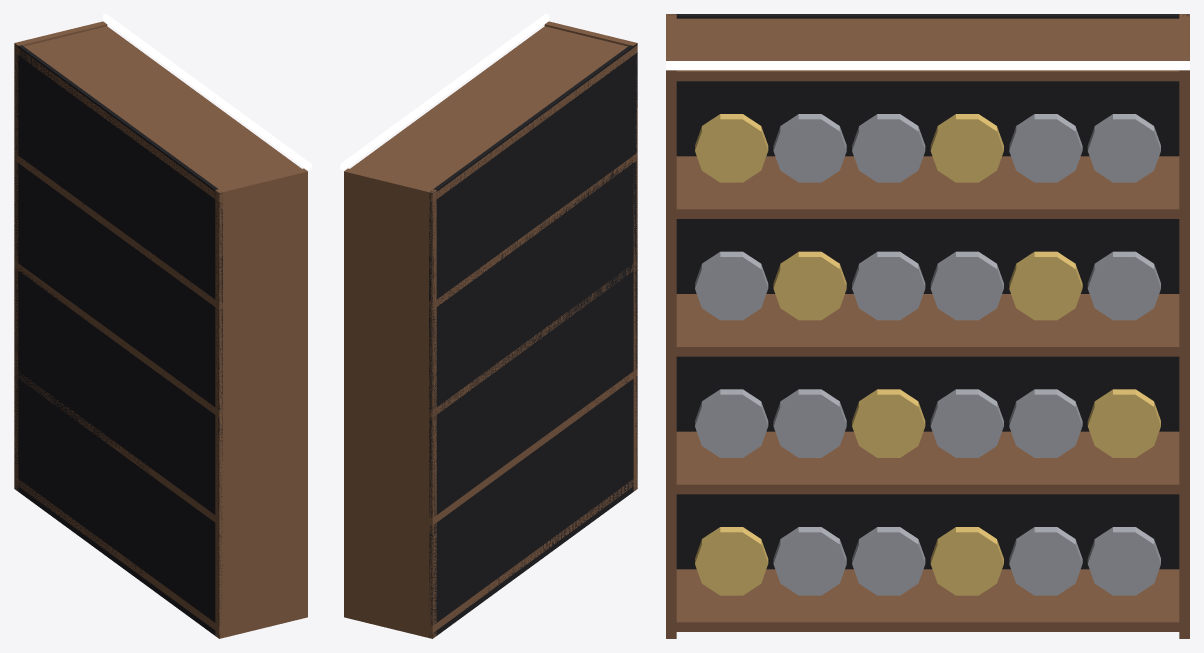
Rendered from SM_ReelShelf.fbx.
3 views of the same model, side by side, from view 1: azimuth 30°, elevation 25°; view 2: azimuth 150°, elevation 25°; view 3: azimuth 270°, elevation 25° (orthographic). The views are drawn at different scales.
Parts seen in each view (by area): view 1: SM_ReelShelf; view 2: SM_ReelShelf; view 3: SM_ReelShelf.
Part boxes in pixels (x1=…): SM_ReelShelf: x1=14, y1=14, x2=311, y2=638; SM_ReelShelf: x1=340, y1=14, x2=637, y2=638; SM_ReelShelf: x1=666, y1=14, x2=1189, y2=638.
Size of the model in its own units: 52 by 244 by 200.
